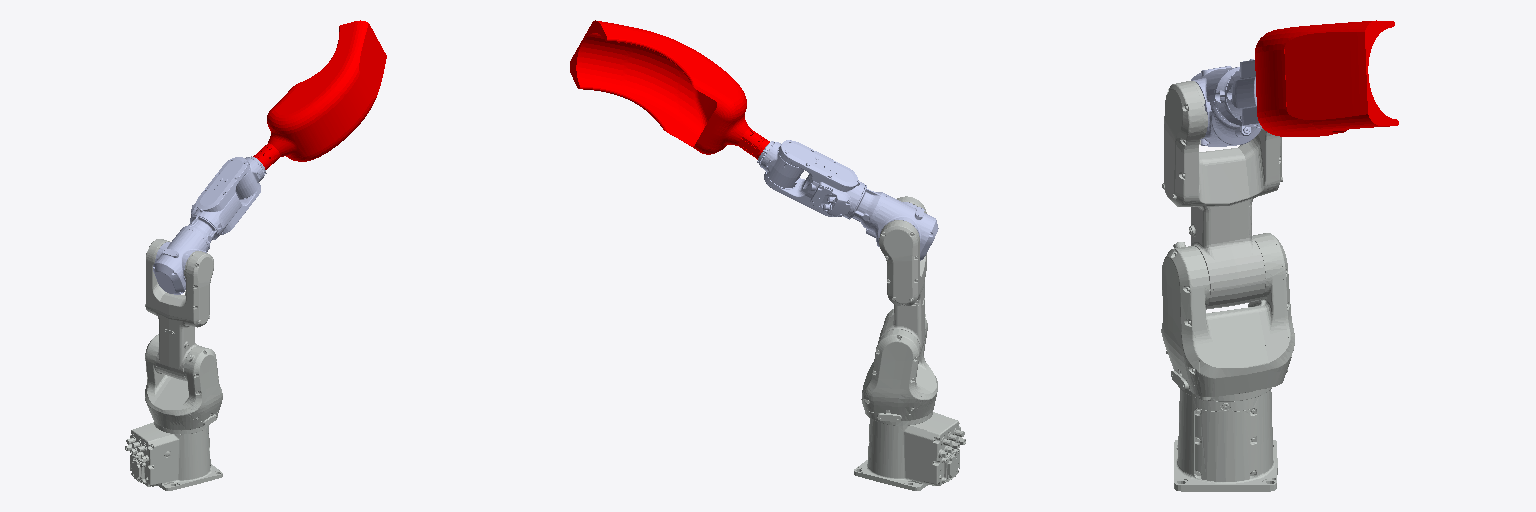
robot.urdf — IRB1100_xistera_right:
<?xml version="1.0" encoding="utf-8"?>
<!-- This URDF was automatically created by SolidWorks to URDF Exporter! Originally created by Stephen Brawner (brawner@gmail.com) 
     Commit Version: 1.6.0-4-g7f85cfe  Build Version: 1.6.7995.38578
     For more information, please see http://wiki.ros.org/sw_urdf_exporter -->
<robot
  name="IRB1100_xistera_right">
  <link
    name="base_link">
    <inertial>
      <origin
        xyz="-0.105283491089362 -0.0747974936088496 0.0720560356221441"
        rpy="0 0 0" />
      <mass
        value="9.57913203645447" />
      <inertia
        ixx="0.0304260038935618"
        ixy="9.44083492294534E-06"
        ixz="-0.000380191192485916"
        iyy="0.0471873448280596"
        iyz="7.14611049157652E-07"
        izz="0.0403438211255412" />
    </inertial>
    <visual>
      <origin
        xyz="0 0 0"
        rpy="0 0 0" />
      <geometry>
        <mesh
          filename="package://IRB1100_xistera_right/meshes/base_link.STL" />
      </geometry>
      <material
        name="">
        <color
          rgba="0.780392156862745 0.8 0.788235294117647 1" />
      </material>
    </visual>
    <collision>
      <origin
        xyz="0 0 0"
        rpy="0 0 0" />
      <geometry>
        <mesh
          filename="package://IRB1100_xistera_right/meshes/base_link.STL" />
      </geometry>
    </collision>
  </link>
  <link
    name="l1">
    <inertial>
      <origin
        xyz="0.00572305394703132 0.00265468563181887 0.07550875863073"
        rpy="0 0 0" />
      <mass
        value="8.45286215129813" />
      <inertia
        ixx="0.0476022498616155"
        ixy="0.0046357398431065"
        ixz="0.000433989974690969"
        iyy="0.0384660007274197"
        iyz="-0.000174868381419662"
        izz="0.0363031349606012" />
    </inertial>
    <visual>
      <origin
        xyz="0 0 0"
        rpy="0 0 0" />
      <geometry>
        <mesh
          filename="package://IRB1100_xistera_right/meshes/l1.STL" />
      </geometry>
      <material
        name="">
        <color
          rgba="0.780392156862745 0.8 0.788235294117647 1" />
      </material>
    </visual>
    <collision>
      <origin
        xyz="0 0 0"
        rpy="0 0 0" />
      <geometry>
        <mesh
          filename="package://IRB1100_xistera_right/meshes/l1.STL" />
      </geometry>
    </collision>
  </link>
  <joint
    name="j1"
    type="revolute">
    <origin
      xyz="-0.078905 -0.074803 0.15815"
      rpy="0 -0.017453 0" />
    <parent
      link="base_link" />
    <child
      link="l1" />
    <axis
      xyz="0 0 1" />
    <limit
      lower="-2.7453"
      upper="3.1888"
      effort="0"
      velocity="0" />
  </joint>
  <link
    name="l2">
    <inertial>
      <origin
        xyz="0.0330351324578218 -0.110024058313502 0.00211568322506046"
        rpy="0 0 0" />
      <mass
        value="6.55953315002978" />
      <inertia
        ixx="0.0736114896732282"
        ixy="0.0127315502901848"
        ixz="0.00502097661391875"
        iyy="0.0211742478294637"
        iyz="0.0013074234187404"
        izz="0.0716132422818738" />
    </inertial>
    <visual>
      <origin
        xyz="0 0 0"
        rpy="0 0 0" />
      <geometry>
        <mesh
          filename="package://IRB1100_xistera_right/meshes/l2.STL" />
      </geometry>
      <material
        name="">
        <color
          rgba="0.780392156862745 0.796078431372549 0.788235294117647 1" />
      </material>
    </visual>
    <collision>
      <origin
        xyz="0 0 0"
        rpy="0 0 0" />
      <geometry>
        <mesh
          filename="package://IRB1100_xistera_right/meshes/l2.STL" />
      </geometry>
    </collision>
  </link>
  <joint
    name="j2"
    type="continuous">
    <origin
      xyz="0 0 0.1775"
      rpy="-1.5708 -0.21645 2.9548" />
    <parent
      link="l1" />
    <child
      link="l2" />
    <axis
      xyz="0.53585 0.11783 -0.83605" />
  </joint>
  <link
    name="l3">
    <inertial>
      <origin
        xyz="0.00615223764918336 -0.00537758298118202 0.0496803044207493"
        rpy="0 0 0" />
      <mass
        value="2.86220192591443" />
      <inertia
        ixx="0.00441738632103778"
        ixy="0.000350530028062172"
        ixz="1.90998630024514E-05"
        iyy="0.00487160500741025"
        iyz="-2.30478869705661E-05"
        izz="0.0059901783669827" />
    </inertial>
    <visual>
      <origin
        xyz="0 0 0"
        rpy="0 0 0" />
      <geometry>
        <mesh
          filename="package://IRB1100_xistera_right/meshes/l3.STL" />
      </geometry>
      <material
        name="">
        <color
          rgba="0.792156862745098 0.819607843137255 0.933333333333333 1" />
      </material>
    </visual>
    <collision>
      <origin
        xyz="0 0 0"
        rpy="0 0 0" />
      <geometry>
        <mesh
          filename="package://IRB1100_xistera_right/meshes/l3.STL" />
      </geometry>
    </collision>
  </link>
  <joint
    name="j3"
    type="continuous">
    <origin
      xyz="0.031007 -0.26893 0.039981"
      rpy="-3.1416 -0.58075 0.21645" />
    <parent
      link="l2" />
    <child
      link="l3" />
    <axis
      xyz="0 0 1" />
  </joint>
  <link
    name="l4">
    <inertial>
      <origin
        xyz="0.00242926853281289 -0.000509824913846435 0.116310680318752"
        rpy="0 0 0" />
      <mass
        value="3.89100991021781" />
      <inertia
        ixx="0.018613433861176"
        ixy="-0.000155504657462431"
        ixz="0.000145978743861964"
        iyy="0.0175184111032994"
        iyz="0.000158188476271021"
        izz="0.00525764583572195" />
    </inertial>
    <visual>
      <origin
        xyz="0 0 0"
        rpy="0 0 0" />
      <geometry>
        <mesh
          filename="package://IRB1100_xistera_right/meshes/l4.STL" />
      </geometry>
      <material
        name="">
        <color
          rgba="0.792156862745098 0.819607843137255 0.933333333333333 1" />
      </material>
    </visual>
    <collision>
      <origin
        xyz="0 0 0"
        rpy="0 0 0" />
      <geometry>
        <mesh
          filename="package://IRB1100_xistera_right/meshes/l4.STL" />
      </geometry>
    </collision>
  </link>
  <joint
    name="j4"
    type="revolute">
    <origin
      xyz="-0.062356 0.040055 0.0485"
      rpy="2.8023 -1.5708 3.041" />
    <parent
      link="l3" />
    <child
      link="l4" />
    <axis
      xyz="0 0 1" />
    <limit
      lower="-3.4761"
      upper="2.8071"
      effort="0"
      velocity="0" />
  </joint>
  <link
    name="l5">
    <inertial>
      <origin
        xyz="-0.000543297924133823 0.0129323438733311 0.0136708003755951"
        rpy="0 0 0" />
      <mass
        value="0.000330181881227886" />
      <inertia
        ixx="2.90532047410457E-07"
        ixy="3.68743103233192E-09"
        ixz="2.85505526602895E-10"
        iyy="2.03474589194246E-07"
        iyz="-6.75081324979404E-09"
        izz="3.19916580648221E-07" />
    </inertial>
    <visual>
      <origin
        xyz="0 0 0"
        rpy="0 0 0" />
      <geometry>
        <mesh
          filename="package://IRB1100_xistera_right/meshes/l5.STL" />
      </geometry>
      <material
        name="">
        <color
          rgba="0.792156862745098 0.819607843137255 0.933333333333333 1" />
      </material>
    </visual>
    <collision>
      <origin
        xyz="0 0 0"
        rpy="0 0 0" />
      <geometry>
        <mesh
          filename="package://IRB1100_xistera_right/meshes/l5.STL" />
      </geometry>
    </collision>
  </link>
  <joint
    name="j5"
    type="revolute">
    <origin
      xyz="-0.0020854 -0.015149 0.2265"
      rpy="1.5708 0.2882 3.0066" />
    <parent
      link="l4" />
    <child
      link="l5" />
    <axis
      xyz="0 0 1" />
    <limit
      lower="-2.8881"
      upper="1.3007"
      effort="0"
      velocity="0" />
  </joint>
  <link
    name="l6">
    <inertial>
      <origin
        xyz="-0.017903 0.00035803 0.23098"
        rpy="0 0 0" />
      <mass
        value="2.6332" />
      <inertia
        ixx="0.013315"
        ixy="-8.8583E-05"
        ixz="0.0021755"
        iyy="0.0089519"
        iyz="-4.5071E-05"
        izz="0.010571" />
    </inertial>
    <visual>
      <origin
        xyz="0 0 0"
        rpy="0 0 0" />
      <geometry>
        <mesh
          filename="package://IRB1100_xistera_right/meshes/l6.STL" />
      </geometry>
      <material
        name="">
        <color
          rgba="1 0 0 1" />
      </material>
    </visual>
    <collision>
      <origin
        xyz="0 0 0"
        rpy="0 0 0" />
      <geometry>
        <mesh
          filename="package://IRB1100_xistera_right/meshes/l6.STL" />
      </geometry>
    </collision>
  </link>
  <joint
    name="j6"
    type="continuous">
    <origin
      xyz="-0.0027076 0.063943 0.0155"
      rpy="1.5708 -0.020207 -3.0993" />
    <parent
      link="l5" />
    <child
      link="l6" />
    <axis
      xyz="0 0 1" />
    <limit
      lower="-2.8881"
      upper="2.8881"
      effort="0"
      velocity="0" />
  </joint>
</robot>

--- Render facts (derived) ---
3 views of the same robot in one strip: view 1: azimuth 30°, elevation 25°; view 2: azimuth 150°, elevation 25°; view 3: azimuth 270°, elevation 25° (orthographic).
Model IRB1100_xistera_right with 7 links and 6 joints (3 revolute, 3 continuous), rooted at base_link, posed all joints at 0.
Links seen in each view (by area): view 1: l6, l2, l1, base_link, l4, l3, l5; view 2: l6, base_link, l1, l4, l2, l3, l5; view 3: l1, l2, l6, base_link, l4, l3.
Boxes of the visible links, <box> form: l6: <box>253,20,386,169</box>; l2: <box>145,239,213,381</box>; l1: <box>145,334,222,434</box>; base_link: <box>125,422,222,490</box>; l4: <box>182,157,260,248</box>; l3: <box>153,228,208,294</box>; l5: <box>236,156,266,198</box>; l6: <box>570,20,769,159</box>; base_link: <box>854,412,965,490</box>; l1: <box>861,309,937,425</box>; l4: <box>764,140,884,228</box>; l2: <box>878,196,926,353</box>; l3: <box>866,194,938,260</box>; l5: <box>757,141,803,187</box>; l1: <box>1161,233,1294,401</box>; l2: <box>1162,81,1282,309</box>; l6: <box>1255,20,1398,136</box>; base_link: <box>1174,389,1277,491</box>; l4: <box>1214,59,1261,127</box>; l3: <box>1191,66,1261,146</box>.
Size in the robot's own frame: 0.8897 by 0.3603 by 1.06 metres.
Meshes: 7 distinct files referenced, 7 mesh visuals loaded (7 binary STL).
